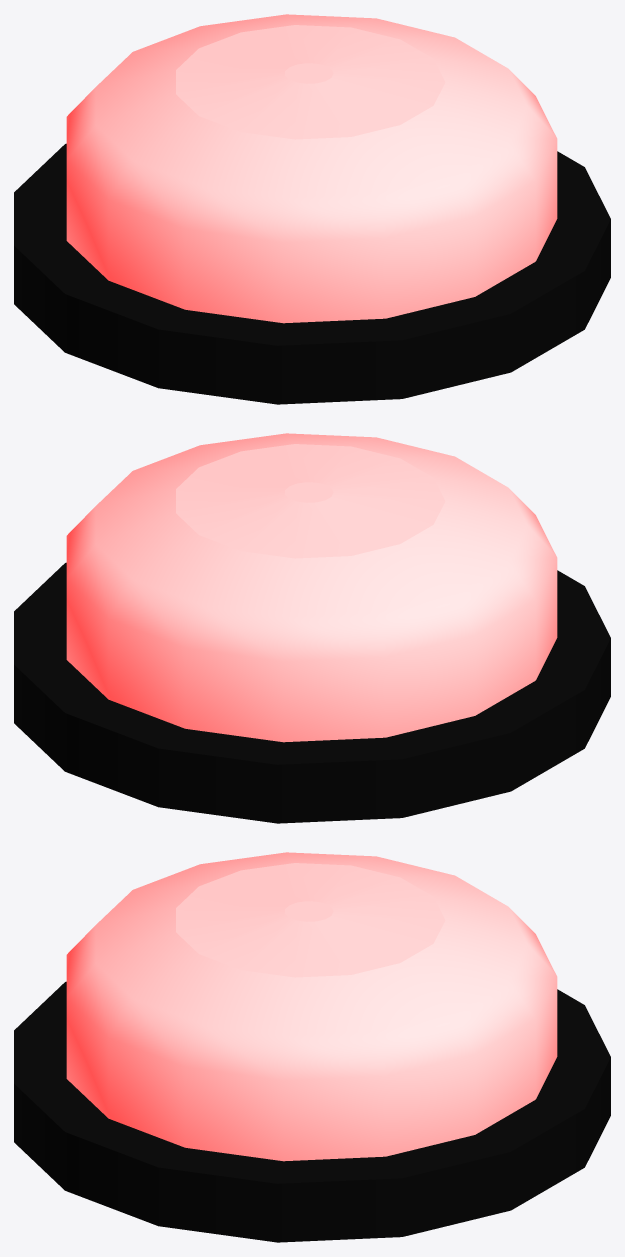
The model's file is Alarme.fbx.
The picture shows the model from 3 angles, top to bottom: view 1: azimuth 30°, elevation 25°; view 2: azimuth 150°, elevation 25°; view 3: azimuth 270°, elevation 25°; orthographic projection.
Parts seen in each view (by area): view 1: Cylinder; view 2: Cylinder; view 3: Cylinder.
Boxes of the visible parts, x1,y1,x2,y2 form: Cylinder: (14, 14, 610, 404); Cylinder: (14, 433, 610, 823); Cylinder: (14, 852, 610, 1242).
Bounding box in the file's own units: 242 × 90.86 × 241.
